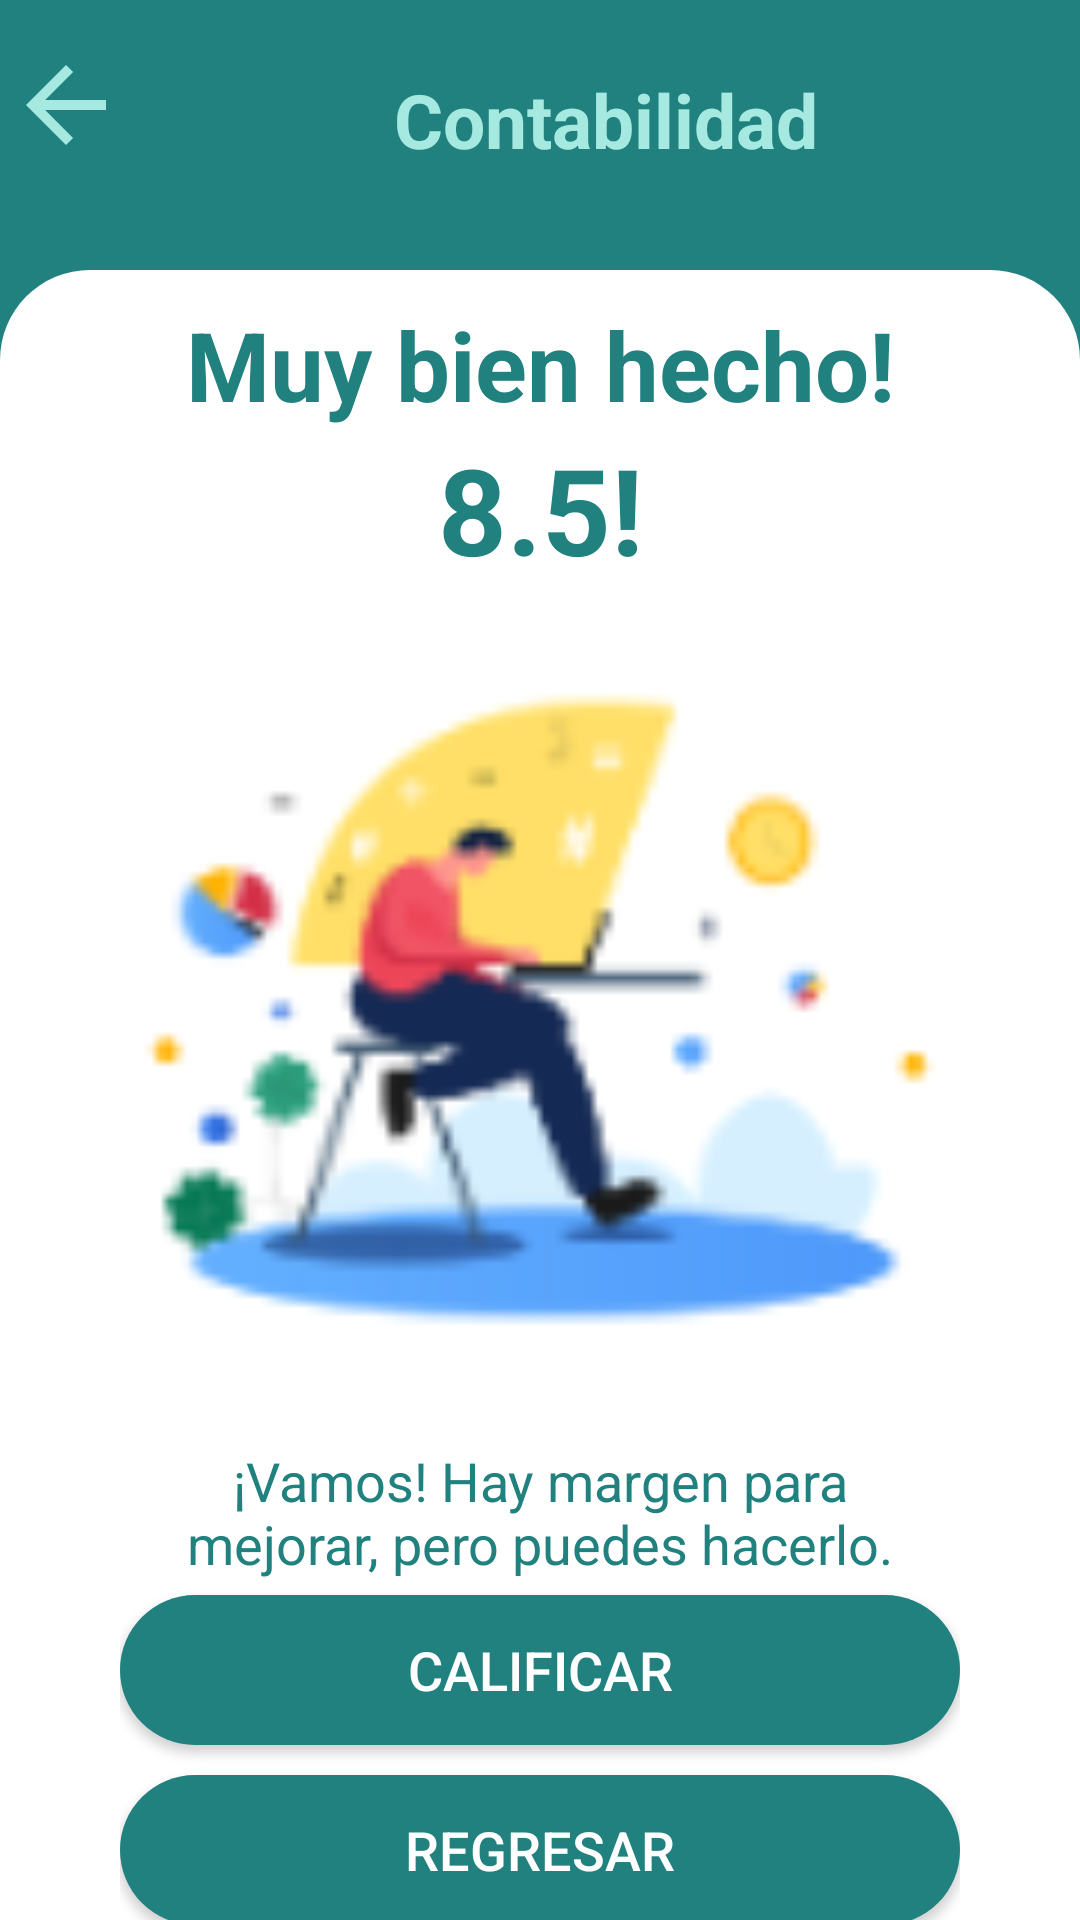

Where to tap for icons on this 1080px x 1920px app screen, as (x,y):
atras: (66,105)
